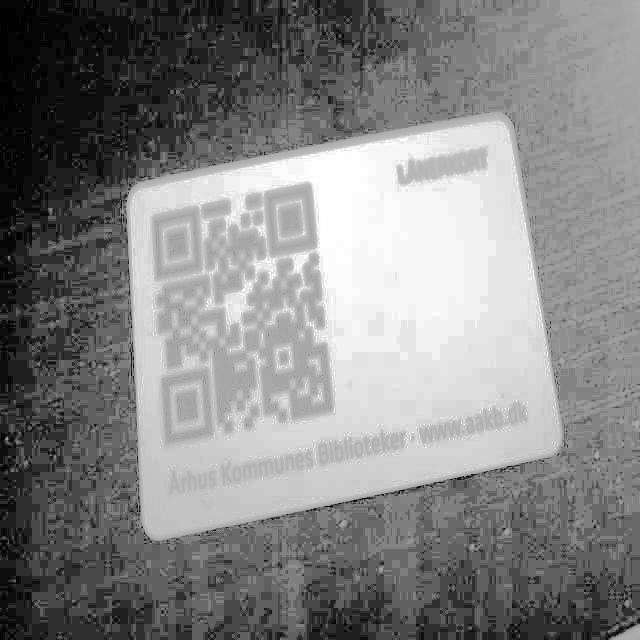qr_code: (154, 186, 333, 444)
